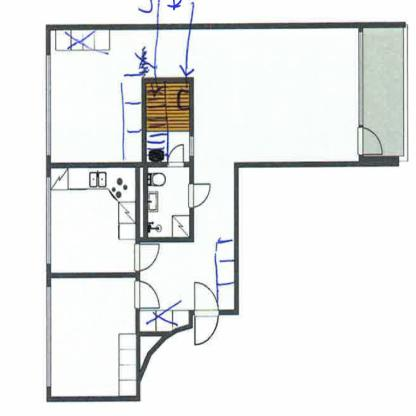door: (145, 30, 360, 161), (137, 166, 239, 312), (49, 29, 144, 162), (52, 278, 135, 396), (50, 167, 134, 272), (360, 27, 406, 155), (138, 306, 189, 364), (191, 281, 219, 345), (133, 244, 162, 272), (133, 280, 159, 310), (359, 125, 383, 155), (188, 183, 213, 207), (168, 145, 184, 166)
window: (46, 286, 54, 388), (45, 53, 52, 158), (45, 178, 52, 266)
